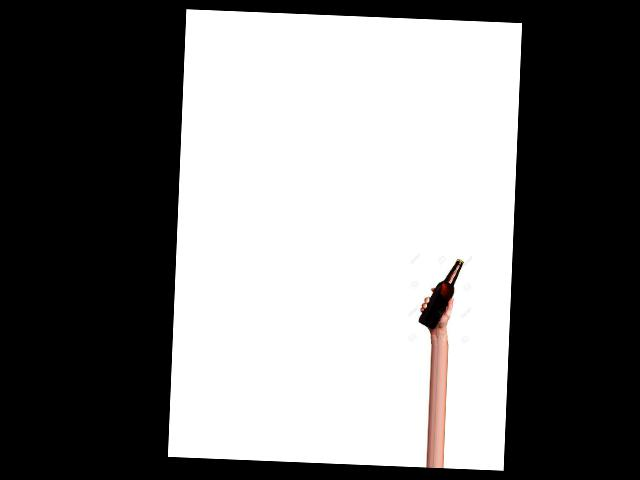beer: (418, 257, 464, 330)
